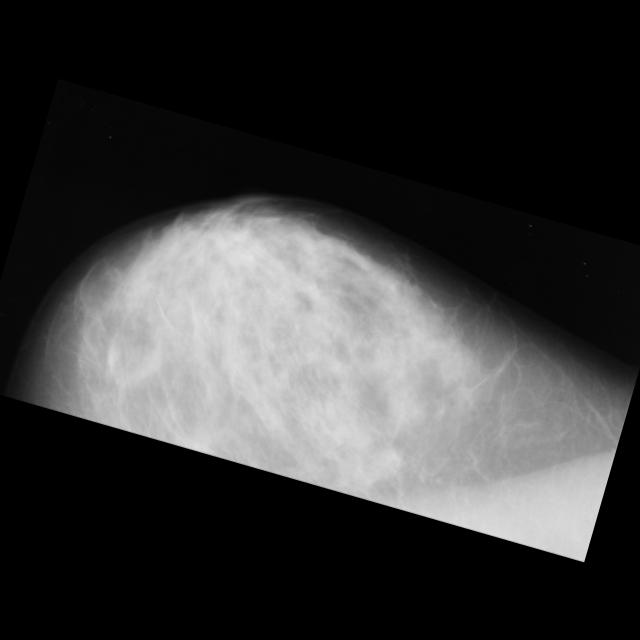MISC: (319, 481, 587, 640)
